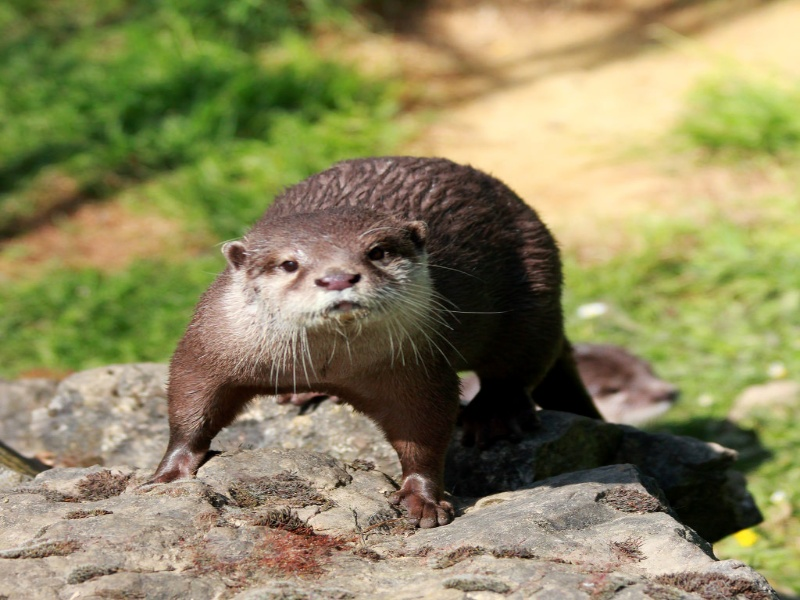minkish: (135, 148, 576, 533), (561, 342, 679, 432)
